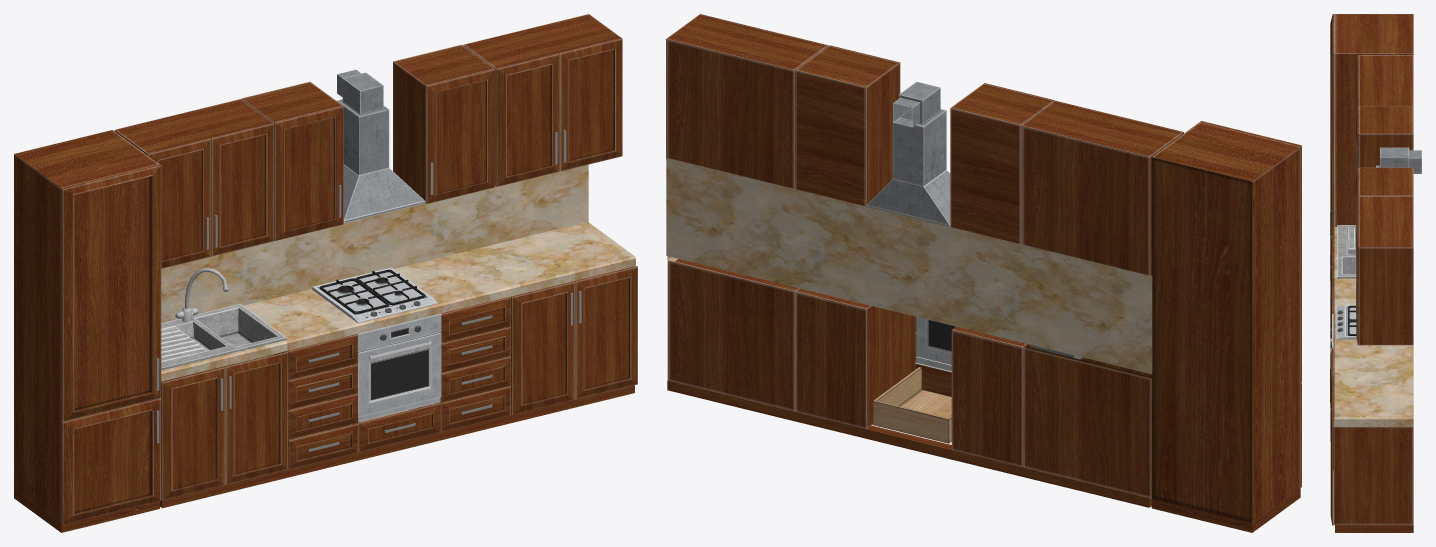
The model's file is Kitchen.fbx.
3 views of the same model, side by side, from view 1: azimuth 30°, elevation 25°; view 2: azimuth 150°, elevation 25°; view 3: azimuth 270°, elevation 25° (orthographic). The views are drawn at different scales.
Visible parts, largest first — view 1: Table, Cupboard_Big_door_upper, Cupboard_Big, Cupboard_Big_door_lower, Cupboard_Upper_02_Door, Cupboard_Upper_03_Door, Cupboard_Lower_02_Door_L, Cupboard_Upper_01_Door_L, Cupboard_Lower_01_Door_L, Cupboard_Upper_01_Door_R, Air_Vent, Cupboard_Lower_01_Door_R (+20 smaller); view 2: Cupboard_Big, Table, Cupboard_Upper_04, Cupboard_Upper_01, Cupboard_Lower_01, Cupboard_Lower_02, Cupboard_Upper_02, Drawer_01_Body, Cupboard_Upper_03, Drawer_02_Body, Air_Vent, Basement (+2 smaller); view 3: Cupboard_Upper_01, Cupboard_Lower_01, Table, Cupboard_Big, Cupboard_Upper_04, Cupboard_Upper_03, Cupboard_Upper_02, Cupboard_Big_door_upper, Syphon, Air_Vent, Cooktop, Basement (+5 smaller).
Part boxes in pixels (box(x1,y1,x2,y2)): Table: box(161, 164, 635, 381); Cupboard_Big_door_upper: box(61, 164, 161, 421); Cupboard_Big: box(14, 130, 159, 532); Cupboard_Big_door_lower: box(61, 398, 161, 524); Cupboard_Upper_02_Door: box(425, 68, 495, 203); Cupboard_Upper_03_Door: box(273, 105, 343, 240); Cupboard_Lower_02_Door_L: box(161, 367, 225, 500); Cupboard_Upper_01_Door_L: box(496, 53, 559, 186); Cupboard_Lower_01_Door_L: box(511, 281, 574, 414); Cupboard_Upper_01_Door_R: box(559, 38, 622, 171); Air_Vent: box(337, 69, 425, 223); Cupboard_Lower_01_Door_R: box(574, 266, 637, 399); Cupboard_Big: box(1151, 122, 1300, 532); Table: box(666, 158, 1152, 374); Cupboard_Upper_04: box(1021, 101, 1182, 275); Cupboard_Upper_01: box(666, 14, 827, 189); Cupboard_Lower_01: box(667, 259, 799, 411); Cupboard_Lower_02: box(1022, 344, 1151, 498); Cupboard_Upper_02: box(795, 46, 899, 206); Drawer_01_Body: box(795, 288, 915, 429); Cupboard_Upper_03: box(950, 83, 1054, 243); Drawer_02_Body: box(951, 326, 1026, 467); Air_Vent: box(866, 81, 950, 226); Basement: box(667, 380, 1151, 507); Cupboard_Upper_01: box(1359, 196, 1413, 345); Cupboard_Lower_01: box(1334, 427, 1413, 524); Table: box(1333, 227, 1413, 426); Cupboard_Big: box(1335, 14, 1413, 226); Cupboard_Upper_04: box(1359, 55, 1413, 105); Cupboard_Upper_03: box(1359, 106, 1413, 167); Cupboard_Upper_02: box(1359, 167, 1413, 196); Cupboard_Big_door_upper: box(1330, 14, 1334, 239); Syphon: box(1337, 225, 1356, 278); Air_Vent: box(1376, 147, 1421, 173); Cooktop: box(1336, 304, 1356, 339); Basement: box(1335, 525, 1413, 532).
Bounding box in the file's own units: 362 × 207 × 60.12.
